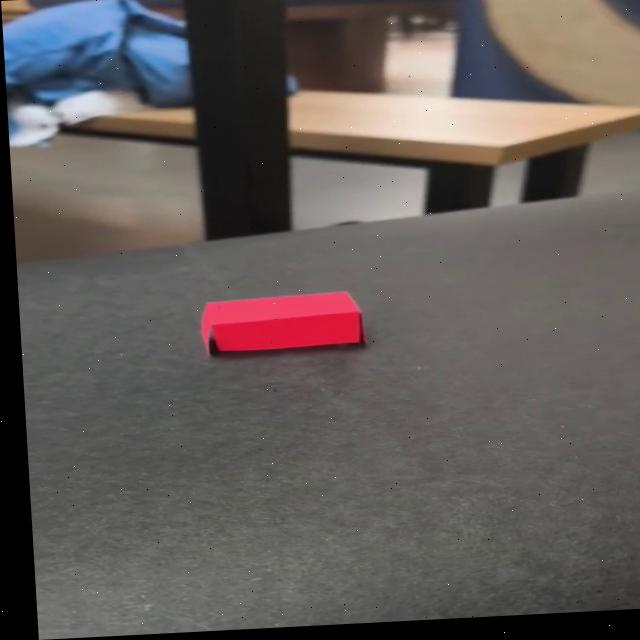red block: (198, 288, 366, 355)
